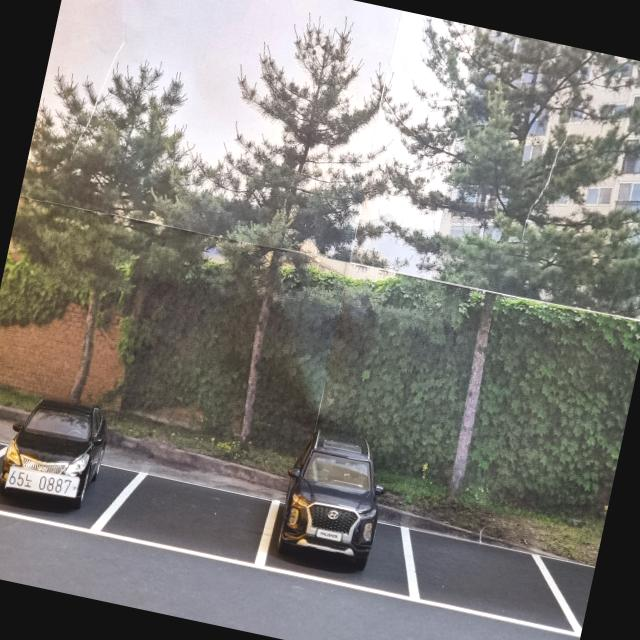car: (272, 423, 402, 580), (0, 389, 125, 523)
free: (380, 521, 595, 640), (91, 461, 283, 574)
